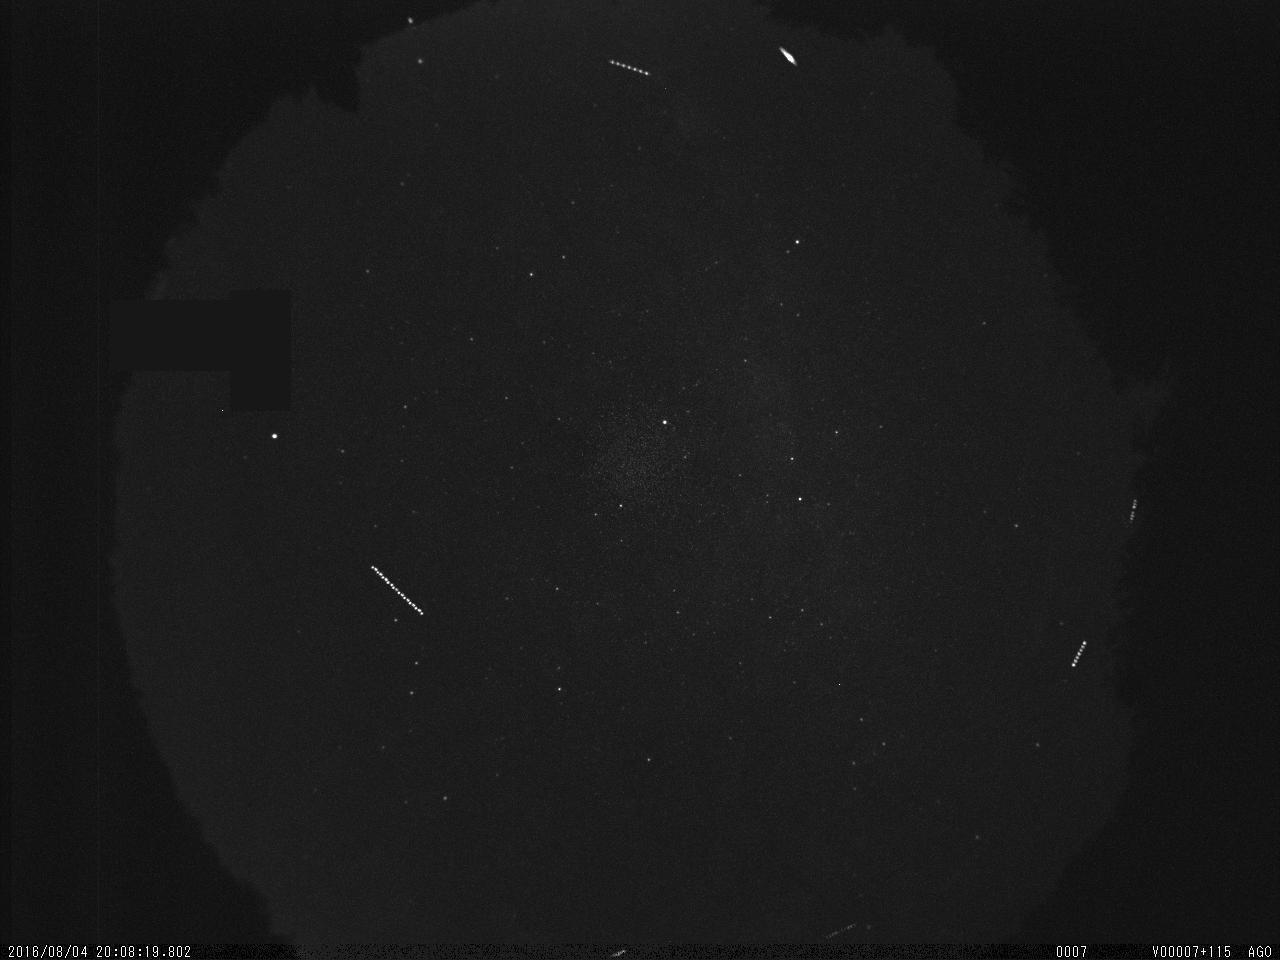Meteor: (772, 39, 806, 76)
